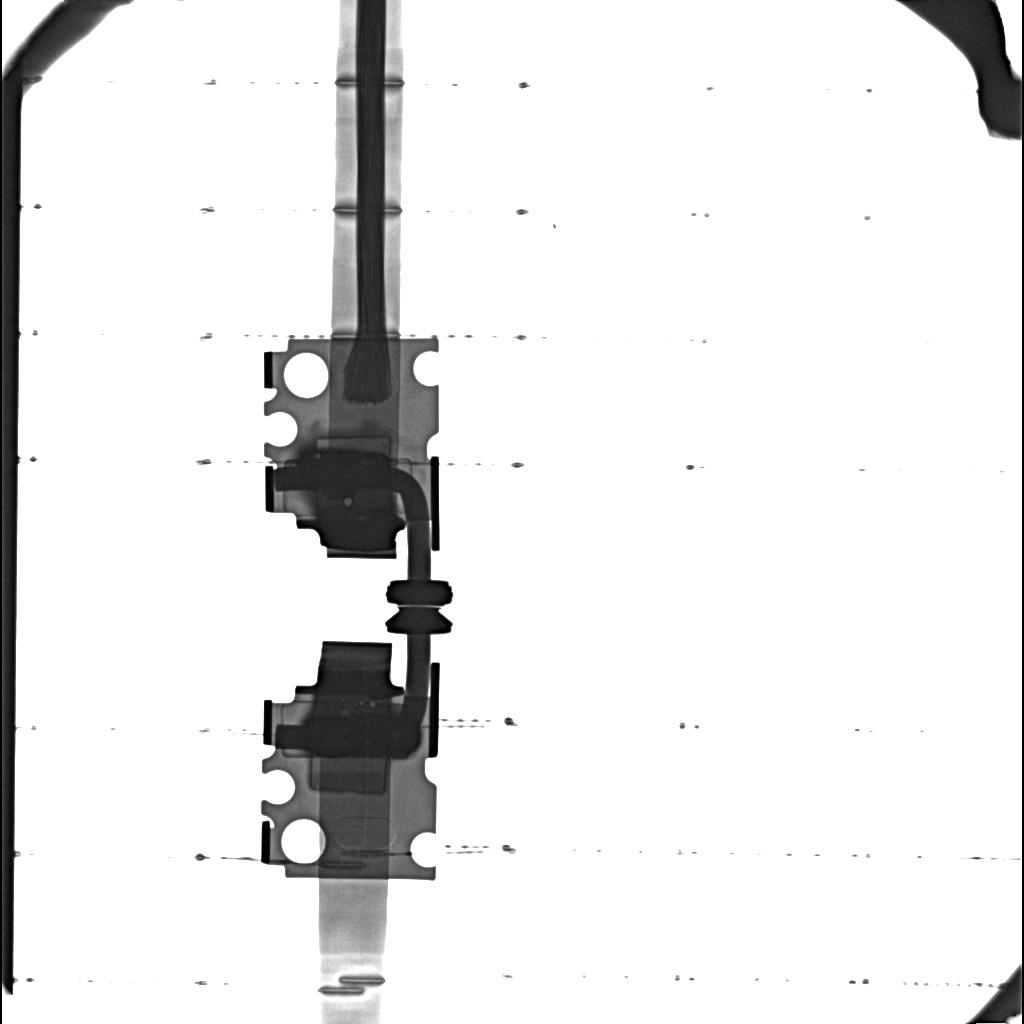PX: (309, 757, 387, 794), (314, 435, 390, 454)
QP: (344, 498, 352, 507)
SX: (304, 715, 420, 759), (300, 448, 393, 498)
